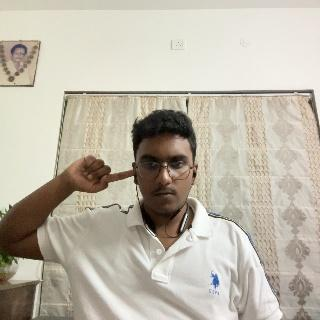Deaf: (65, 155, 139, 193)
Face: (134, 110, 195, 218)
